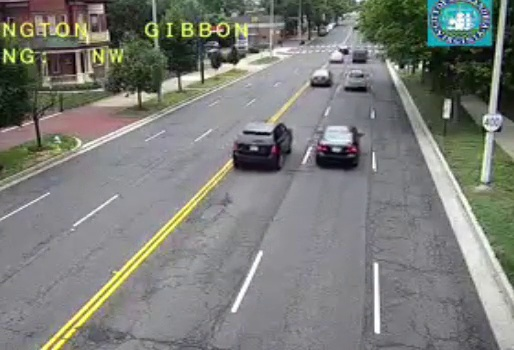car: (232, 122, 292, 169), (317, 125, 359, 164), (310, 69, 332, 87), (345, 70, 365, 89)
